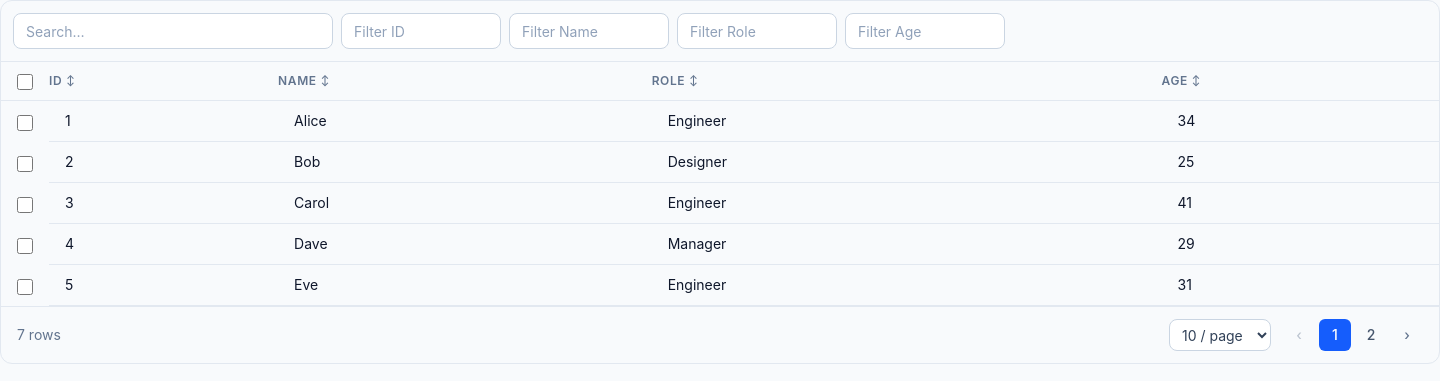
Test: DataTable › pagination › navigates to the next page
The image size is (1440, 381).
Step 1. Click the button named "Next page" → (1407, 335), box 1391,319 -> 1423,351
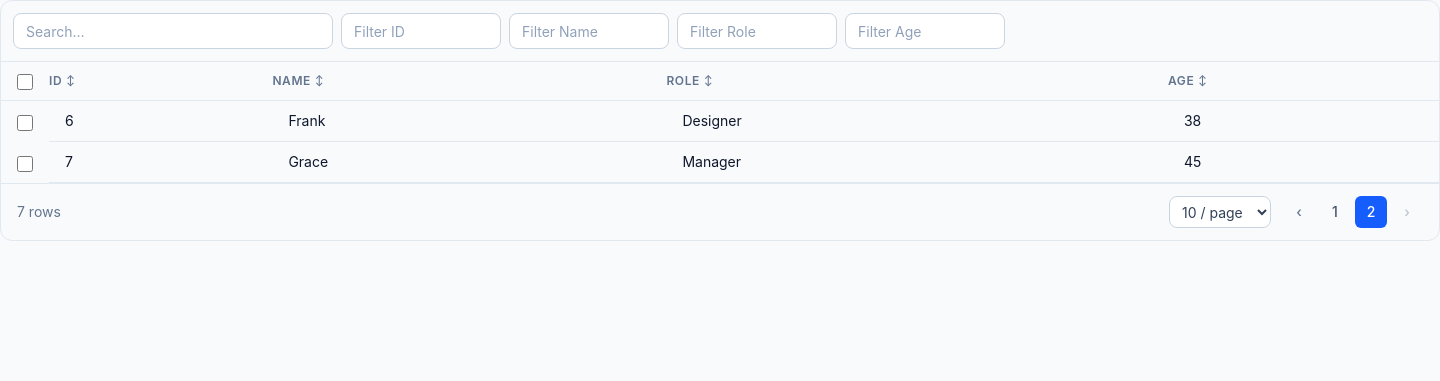
Expected: the cell "Frank" is shown, 272,101 -> 666,142
Expected: the cell "Alice" is gone
